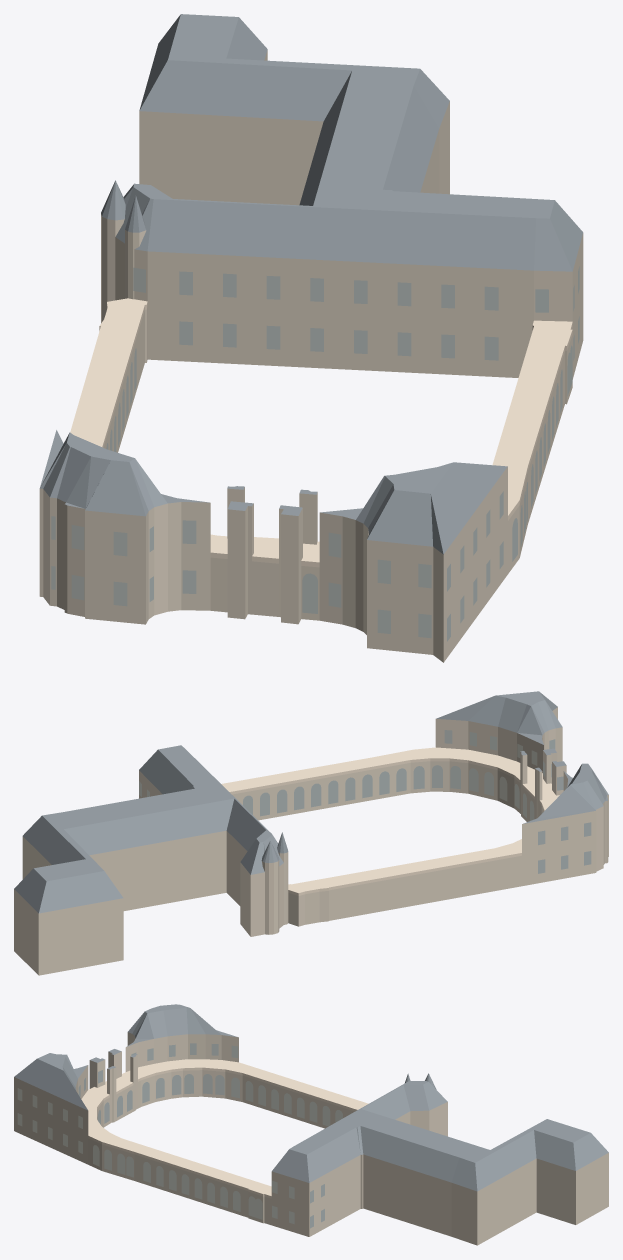
File: detail.glb
The picture shows the model from 3 angles, top to bottom: view 1: azimuth 30°, elevation 25°; view 2: azimuth 150°, elevation 25°; view 3: azimuth 270°, elevation 25°; orthographic projection. The views are drawn at different scales.
Parts seen in each view (by area): view 1: stone, roof, window, trim; view 2: stone, roof, trim, window; view 3: stone, roof, window, trim.
Part boxes in pixels (x1,y1,x2,y2): stone: (39, 50, 583, 662); roof: (39, 14, 583, 554); window: (51, 266, 579, 641); trim: (70, 298, 572, 567); stone: (14, 707, 608, 975); roof: (14, 691, 608, 913); trim: (221, 747, 559, 895); window: (139, 730, 591, 873); stone: (14, 1032, 608, 1245); roof: (14, 1004, 608, 1191); window: (17, 1043, 350, 1228); trim: (81, 1059, 368, 1198).
Size of the model in its own units: 88.79 by 19 by 130.
